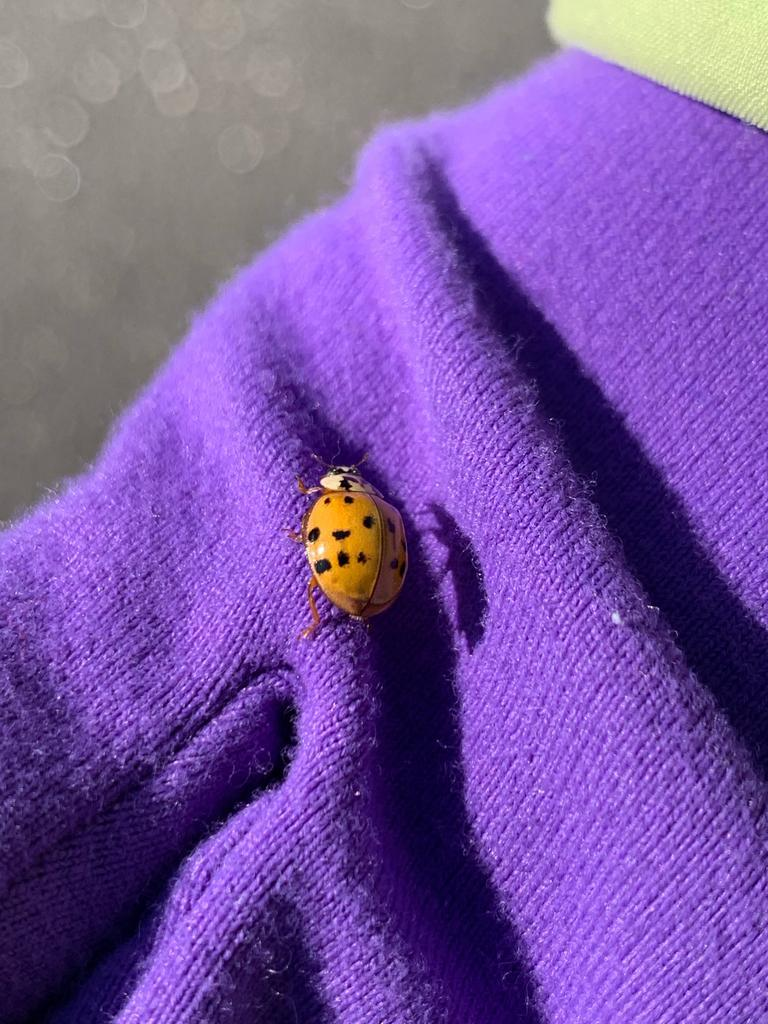ladybug: (286, 451, 419, 636)
